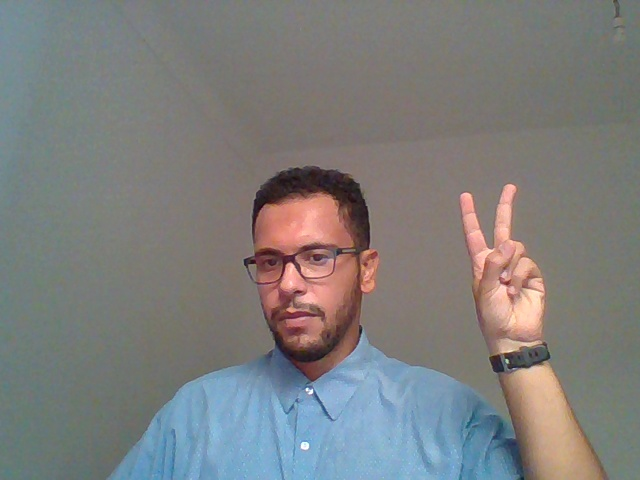vectory: (437, 174, 591, 441)
